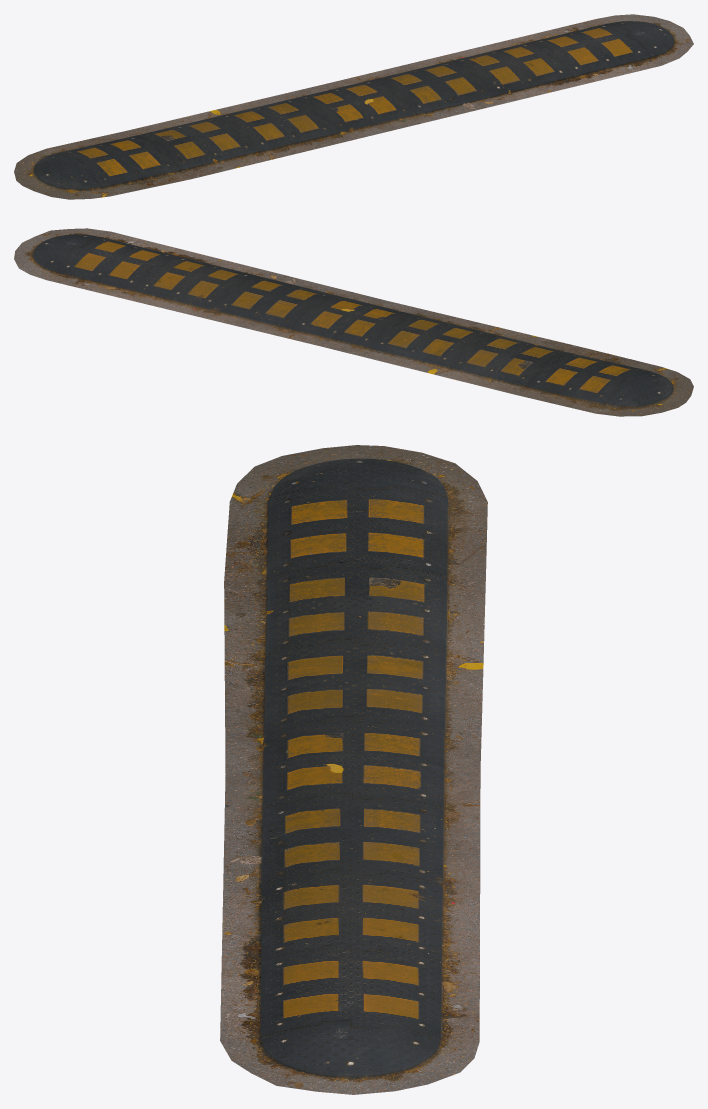
The model's file is prop_speedbump_01.glb.
The picture shows the model from 3 angles, top to bottom: view 1: azimuth 30°, elevation 25°; view 2: azimuth 150°, elevation 25°; view 3: azimuth 270°, elevation 25°; orthographic projection. The views are drawn at different scales.
Parts seen in each view (by area): view 1: GeoSphere001_02 - Default_0; view 2: GeoSphere001_02 - Default_0; view 3: GeoSphere001_02 - Default_0.
Boxes of the visible parts, box(x1,y1,x2,y2) form: GeoSphere001_02 - Default_0: box(14, 14, 693, 199); GeoSphere001_02 - Default_0: box(14, 228, 693, 416); GeoSphere001_02 - Default_0: box(220, 445, 487, 1094).
Bounding box in the file's own units: 40.23 × 0.6406 × 7.06.
1 material, 1 textured.
